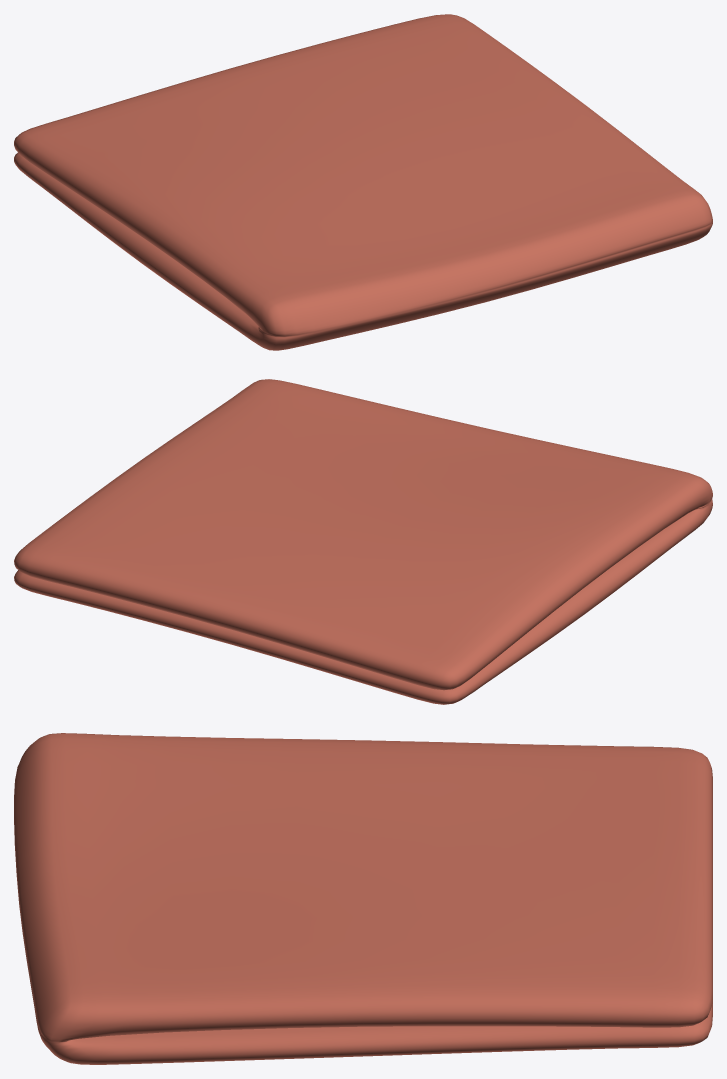
Rendered from Game_obj_hanky .fbx.
The picture shows the model from 3 angles, top to bottom: view 1: azimuth 30°, elevation 25°; view 2: azimuth 150°, elevation 25°; view 3: azimuth 270°, elevation 25°; orthographic projection. The views are drawn at different scales.
Parts seen in each view (by area): view 1: pCube4; view 2: pCube4; view 3: pCube4.
Part boxes in pixels (box(x1,y1,x2,y2)): pCube4: box(14, 14, 712, 350); pCube4: box(14, 379, 712, 704); pCube4: box(14, 733, 712, 1064).
Bounding box in the file's own units: 517 × 64.47 × 536.
